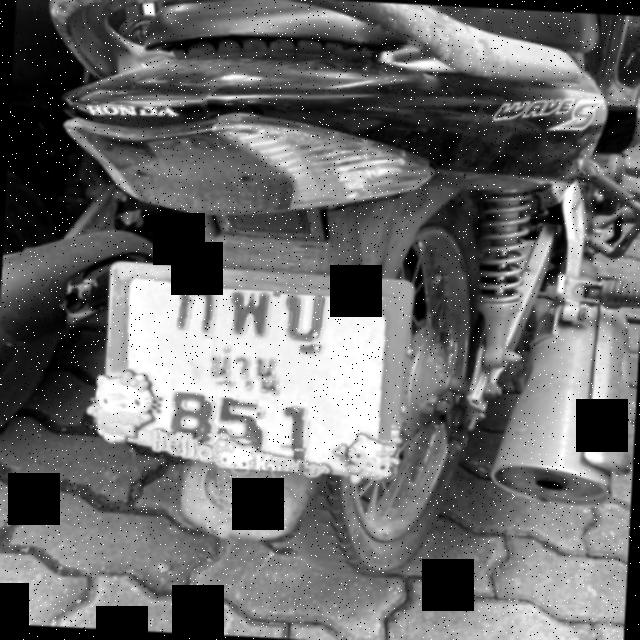letters: (278, 294, 337, 346), (225, 289, 273, 342), (174, 284, 222, 336), (277, 390, 309, 451), (216, 398, 258, 442), (170, 391, 206, 440)
license-plate: (113, 264, 398, 477)
province: (202, 338, 300, 386)
